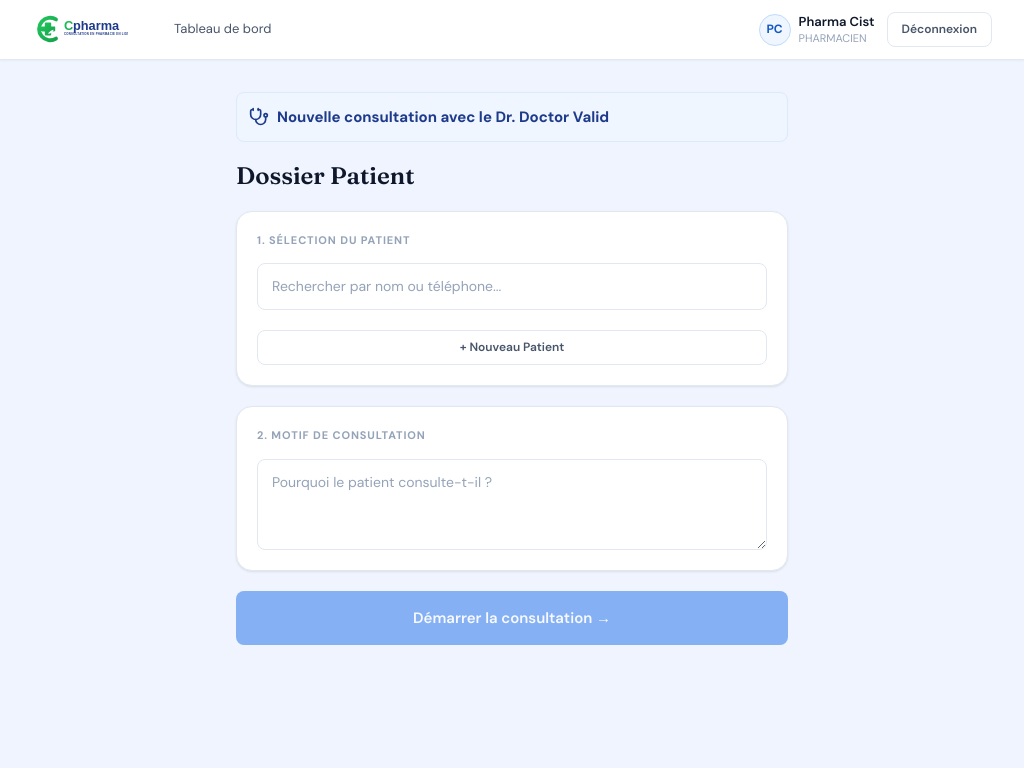
Scenario: NewConsultation Component › handles searching for patient
The image size is (1024, 768).
In the field with placeholder "Rechercher par nom ou téléphone...": coordinates (512, 287) [257,263,767,310], type "John"
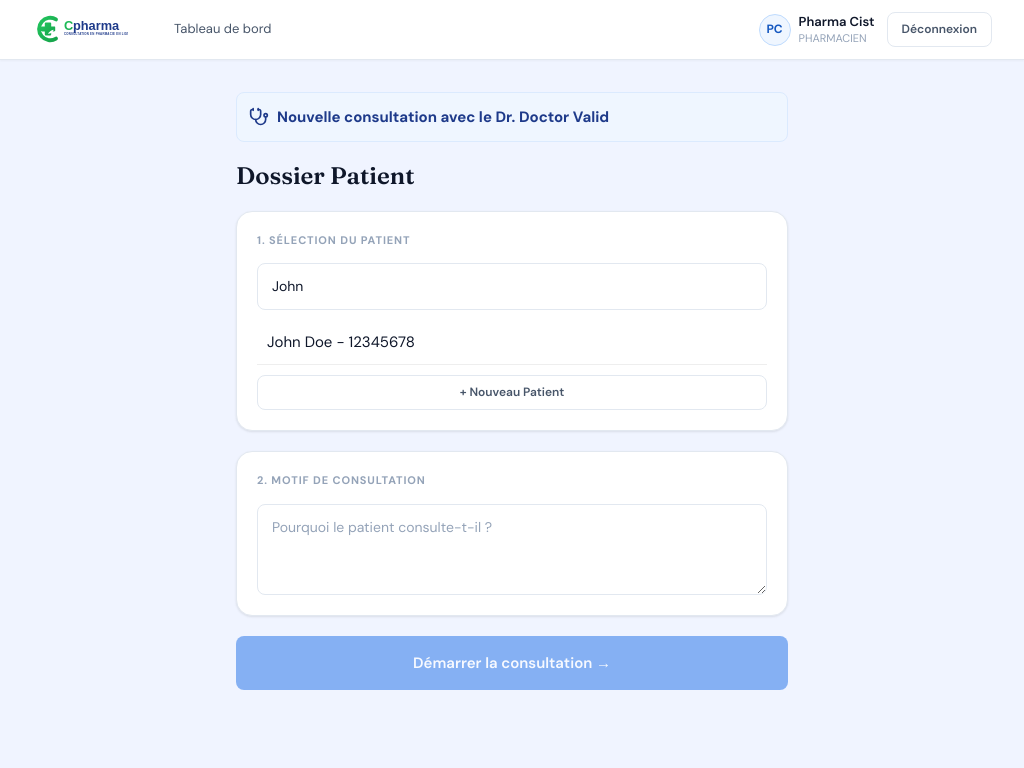
Expected: the text "John Doe - 12345678" is shown, [257,320,767,365]
